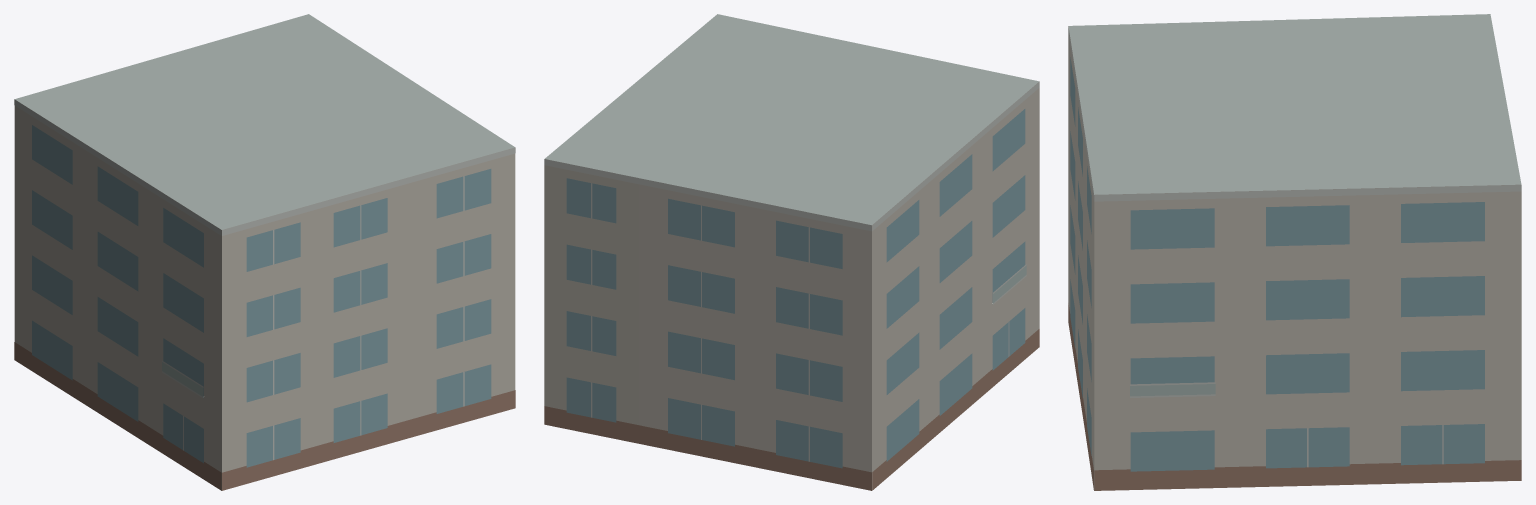
Rendered from survey-upis-32803124.glb.
3 renders of one model, left to right at view 1: azimuth 30°, elevation 25°; view 2: azimuth 150°, elevation 25°; view 3: azimuth 270°, elevation 25°, orthographic. The views are drawn at different scales.
Parts seen in each view (by area): view 1: survey-upis-32803124.tmp; view 2: survey-upis-32803124.tmp; view 3: survey-upis-32803124.tmp.
Part boxes in pixels (left/top/right/bottom): survey-upis-32803124.tmp: left=14, top=14, right=515, bottom=490; survey-upis-32803124.tmp: left=544, top=14, right=1039, bottom=490; survey-upis-32803124.tmp: left=1068, top=14, right=1521, bottom=490.
Bounding box in the file's own units: 13.69 × 10.45 × 14.5.
